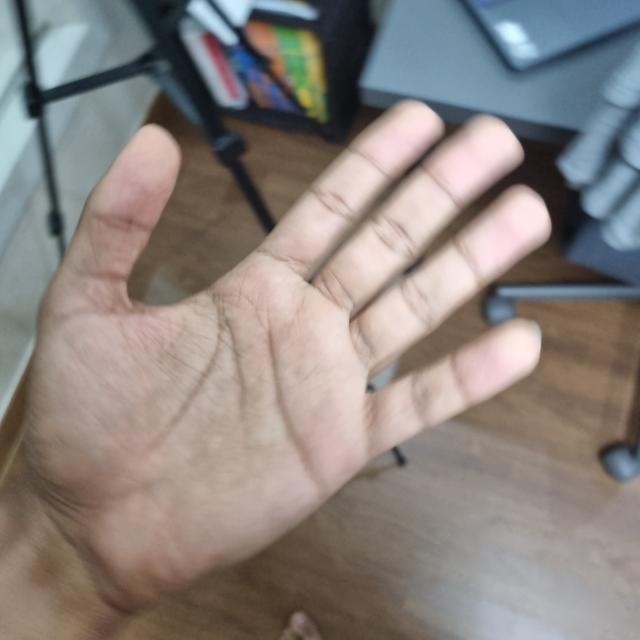Paper: (16, 102, 549, 595)
